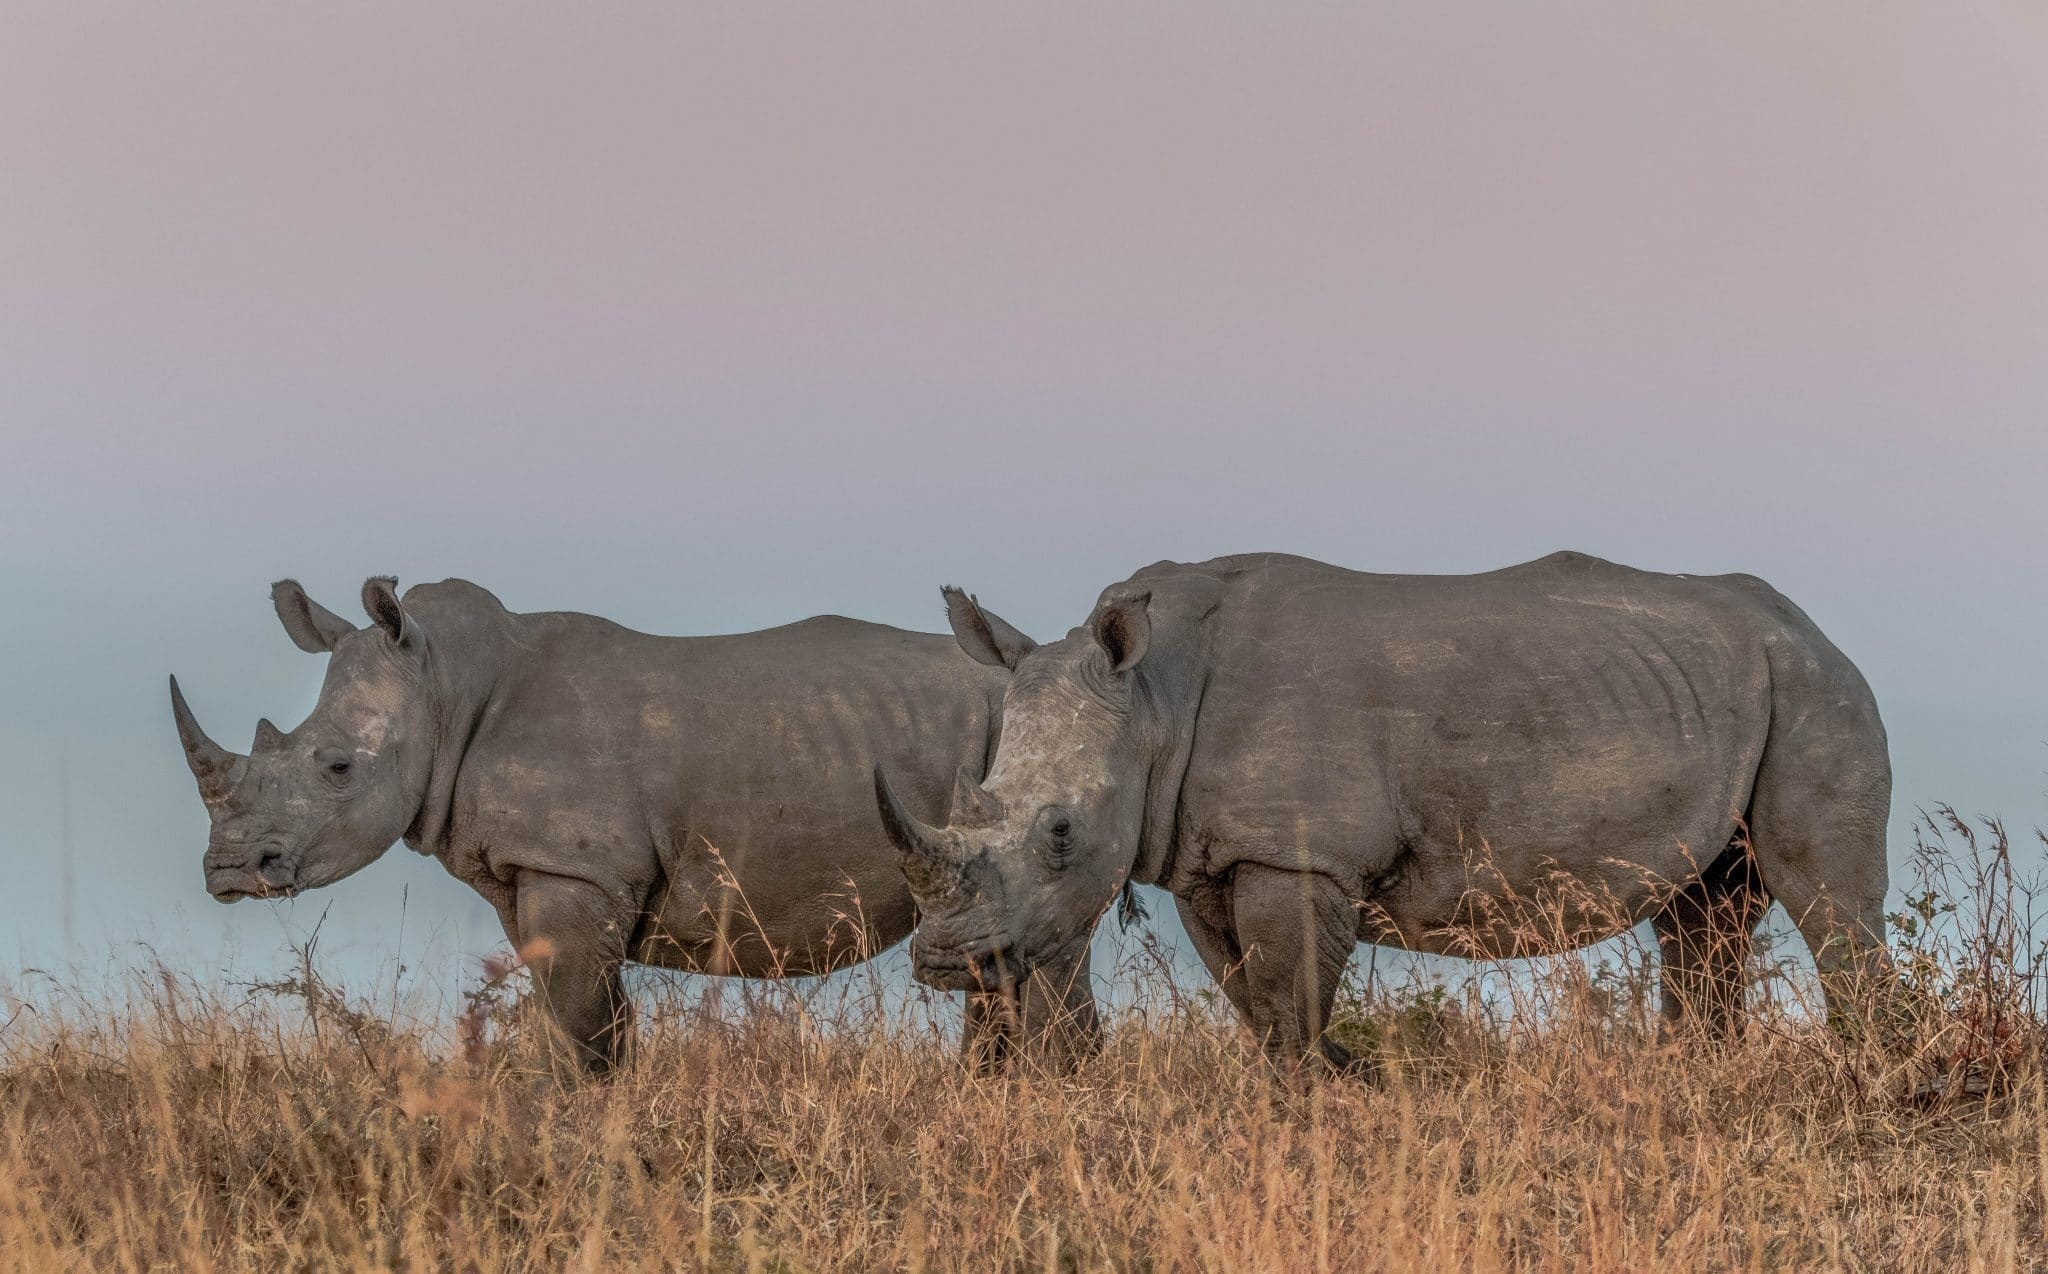rhino: (852, 533, 1904, 1108), (156, 568, 1102, 1089)
